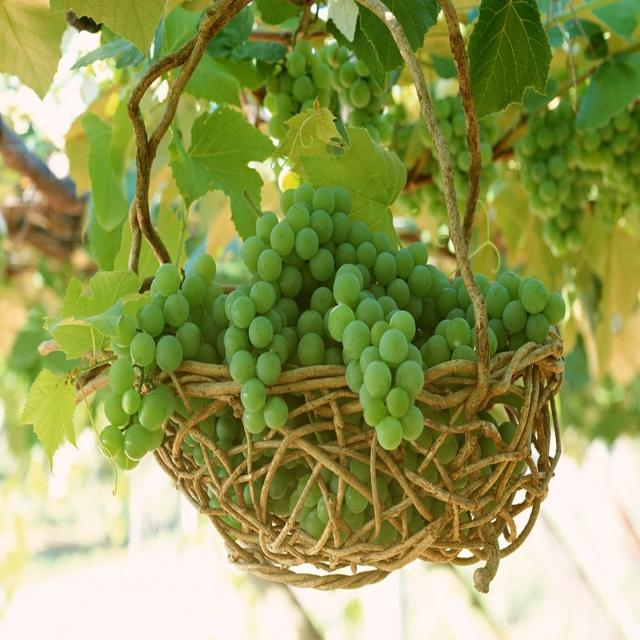grape: (232, 194, 373, 452), (331, 240, 456, 444), (96, 256, 220, 459), (183, 50, 385, 140), (558, 277, 640, 465), (513, 84, 603, 254), (397, 262, 519, 372), (562, 62, 640, 222), (424, 89, 515, 197), (486, 254, 570, 356)
